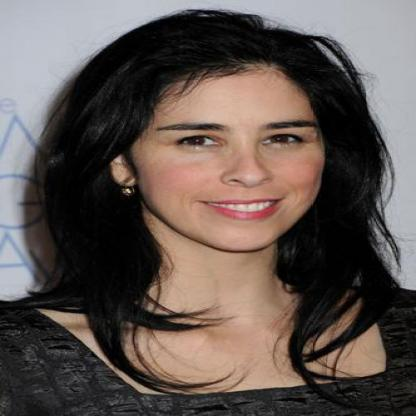long-hair: (11, 253, 415, 340)
